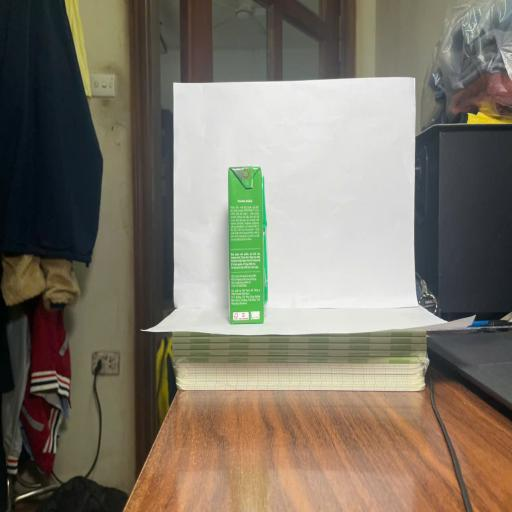milo: (228, 166, 268, 325)
